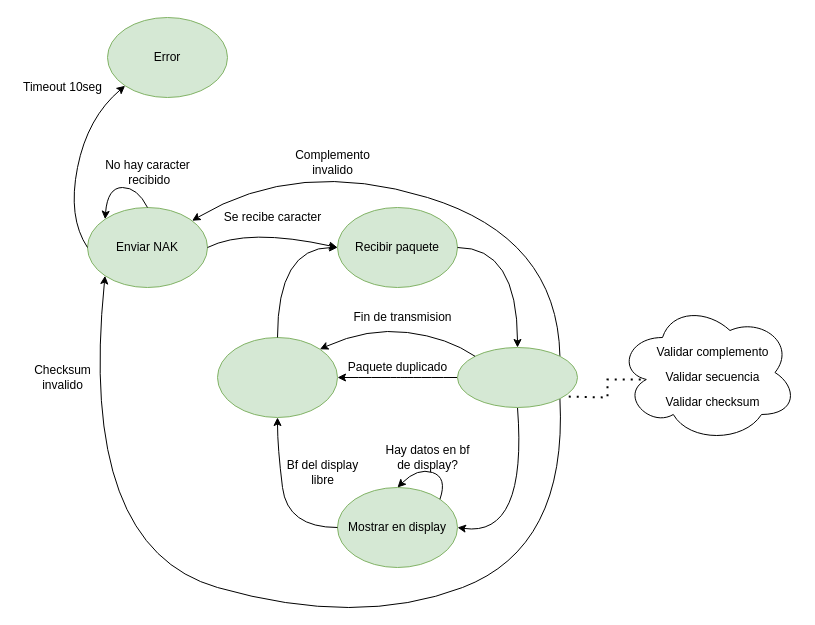
Some shapes in this 815 by 625 pixel diagram are drawn without their labels. Each missing label, with the centre of its shape:
Enviar ACK: point (277, 377)
Validar paquete: point (517, 377)
